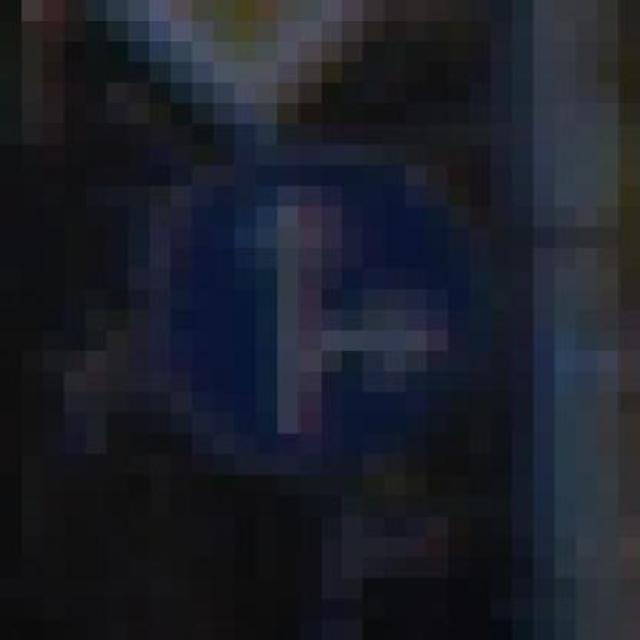Go Straight or Turn Right: (106, 124, 534, 516)
